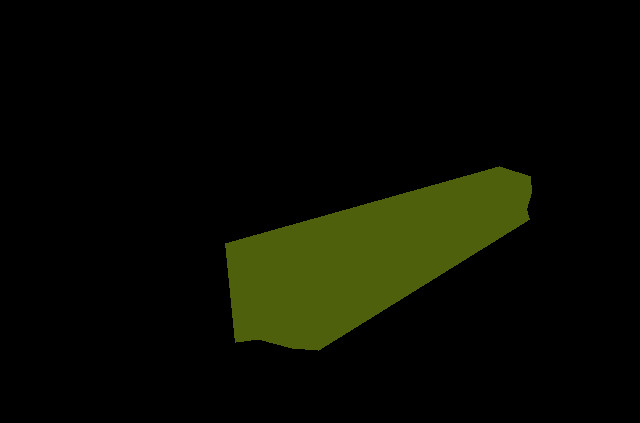Train: (225, 166, 531, 350)
